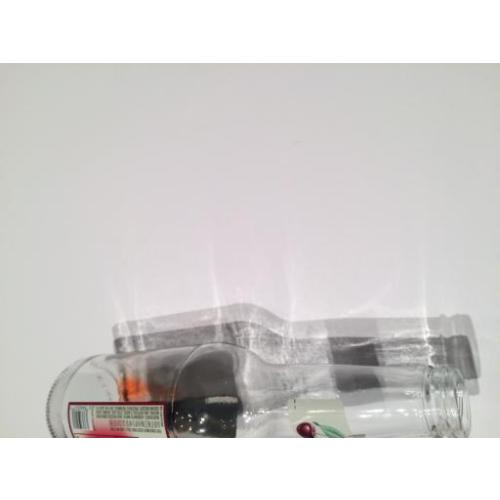glass: (53, 355, 466, 438)
